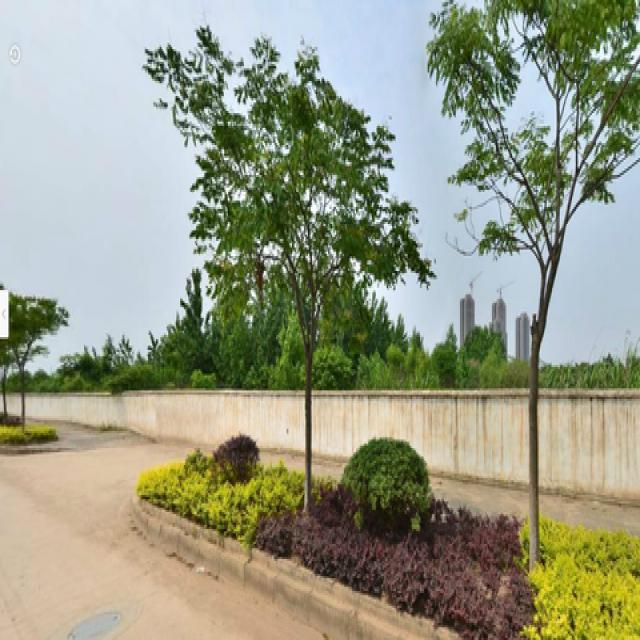koel: (445, 8, 635, 600), (229, 58, 360, 497)
